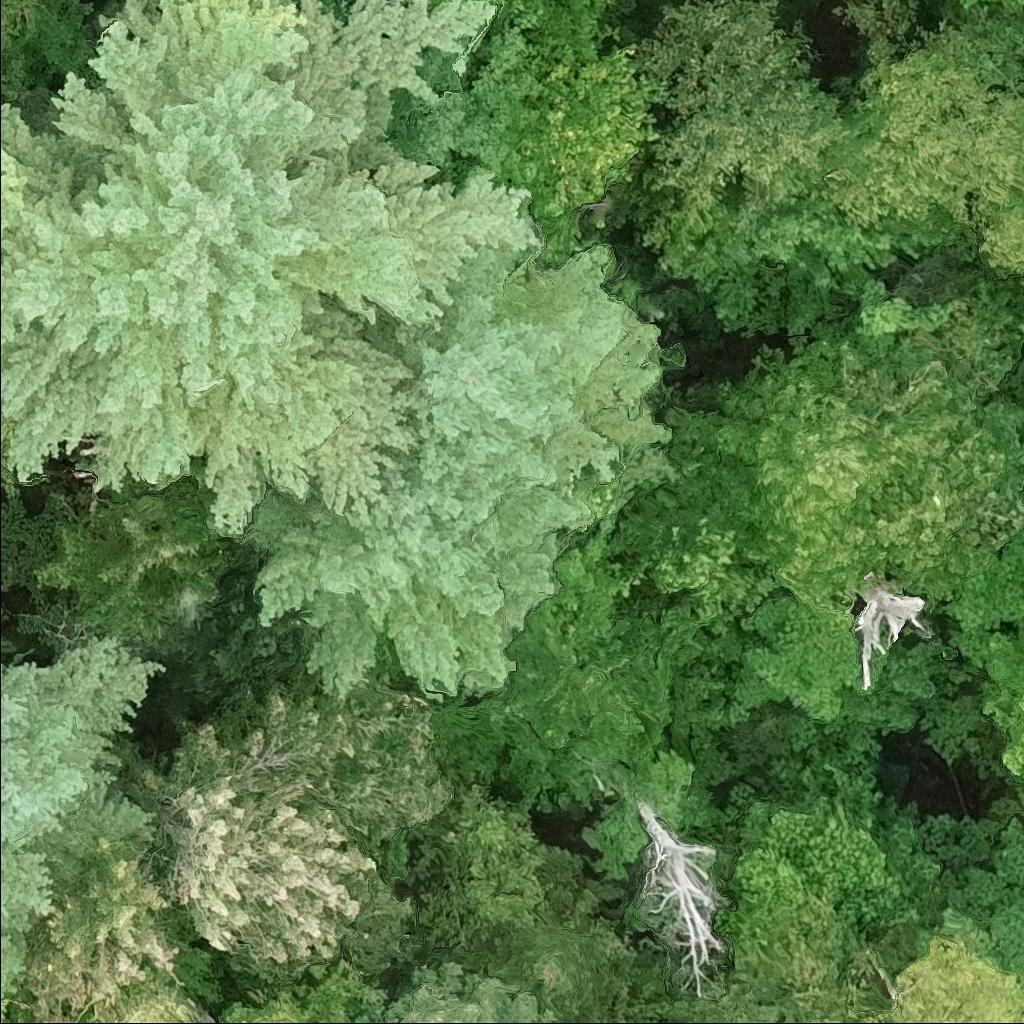crown: (0, 0, 548, 539), (241, 237, 694, 707), (663, 324, 1023, 610), (125, 672, 451, 980), (0, 562, 171, 1000), (814, 8, 1023, 266), (635, 0, 856, 221), (507, 7, 666, 267), (714, 782, 945, 957), (31, 475, 229, 647), (21, 835, 186, 1023), (392, 21, 549, 185), (661, 919, 895, 1023), (730, 584, 872, 723), (483, 907, 628, 1023), (653, 509, 783, 630), (867, 931, 1023, 1023), (355, 957, 559, 1023), (946, 815, 1023, 969), (948, 612, 1023, 743), (222, 963, 385, 1023), (933, 528, 1023, 633), (850, 282, 965, 357), (52, 971, 202, 1023), (490, 0, 611, 39), (998, 684, 1023, 779), (0, 996, 18, 1023), (959, 0, 1005, 10), (811, 1018, 841, 1023), (863, 0, 877, 3), (397, 0, 404, 1)
